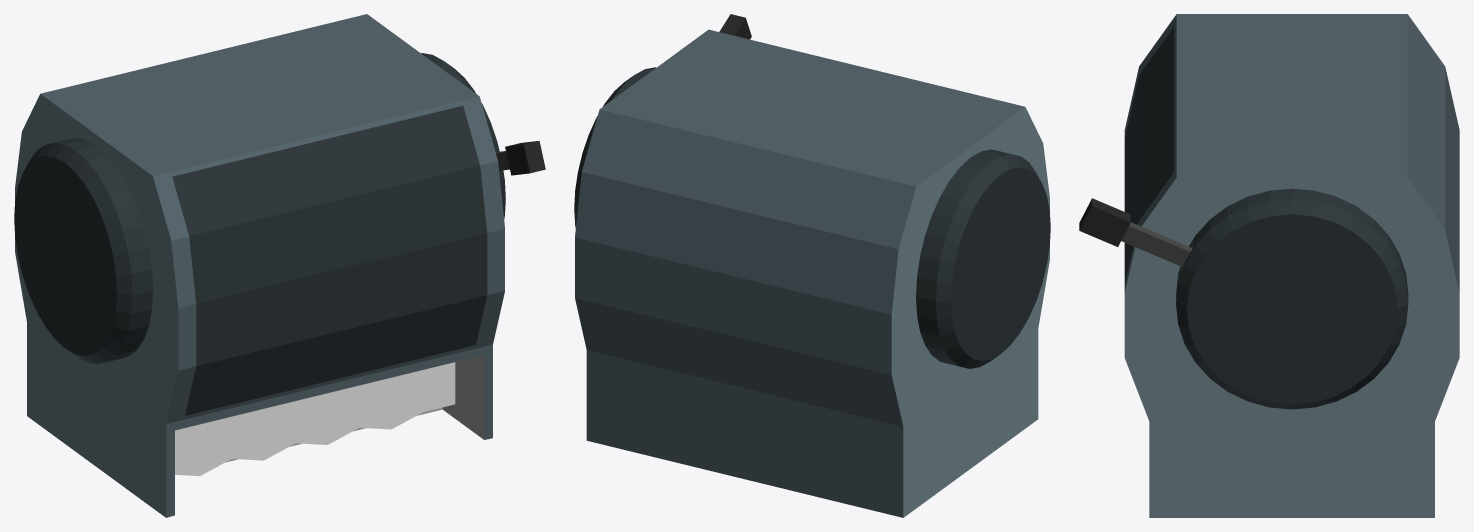
File: Paper Towel Dispensor #1.fbx
3 renders of one model, left to right at view 1: azimuth 30°, elevation 25°; view 2: azimuth 150°, elevation 25°; view 3: azimuth 270°, elevation 25°, orthographic. The views are drawn at different scales.
Parts seen in each view (by area): view 1: Paper Towel Dispensor #1; view 2: Paper Towel Dispensor #1; view 3: Paper Towel Dispensor #1.
Part boxes in pixels (x1,y1,x2,y2): Paper Towel Dispensor #1: (14, 14, 545, 517); Paper Towel Dispensor #1: (574, 14, 1050, 517); Paper Towel Dispensor #1: (1079, 14, 1459, 517).
Bounding box in the file's own units: 63.3 × 51.65 × 52.3.
Materials: 1 (1 with a texture image).
